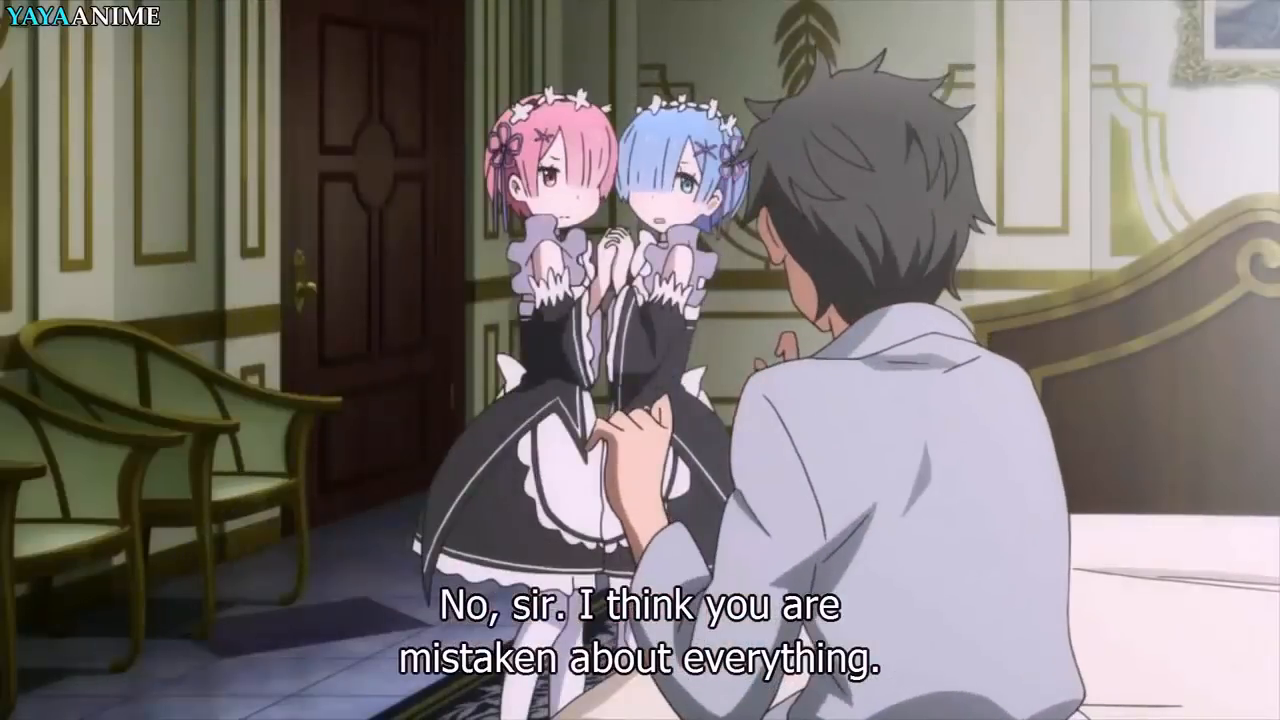REM: (611, 92, 752, 240)
